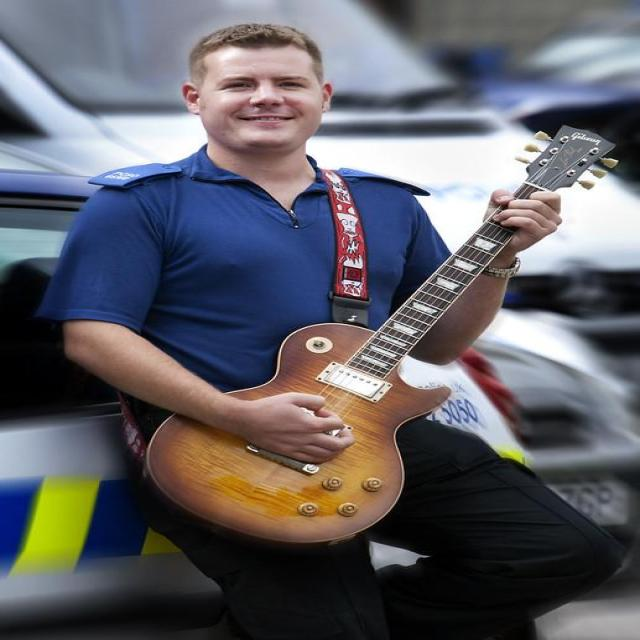guitar: (145, 220, 512, 543)
